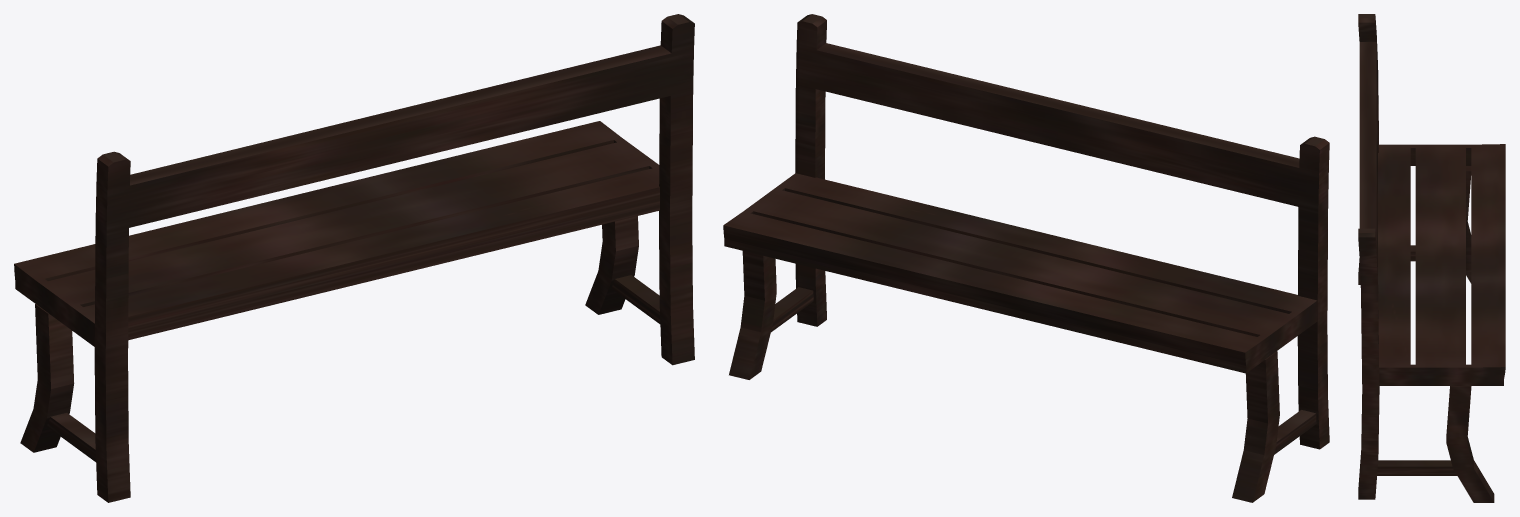
The model's file is churchbench.obj.
3 views of the same model, side by side, from view 1: azimuth 30°, elevation 25°; view 2: azimuth 150°, elevation 25°; view 3: azimuth 270°, elevation 25° (orthographic). The views are drawn at different scales.
Visible parts, largest first — view 1: cube; view 2: cube; view 3: cube.
Boxes of the visible parts, left/top/right/bottom form: cube: left=14, top=14, right=694, bottom=502; cube: left=723, top=14, right=1329, bottom=502; cube: left=1358, top=14, right=1505, bottom=502.
Bounding box in the file's own units: 2.23 × 1.24 × 0.6211.
1 material, 1 textured.
